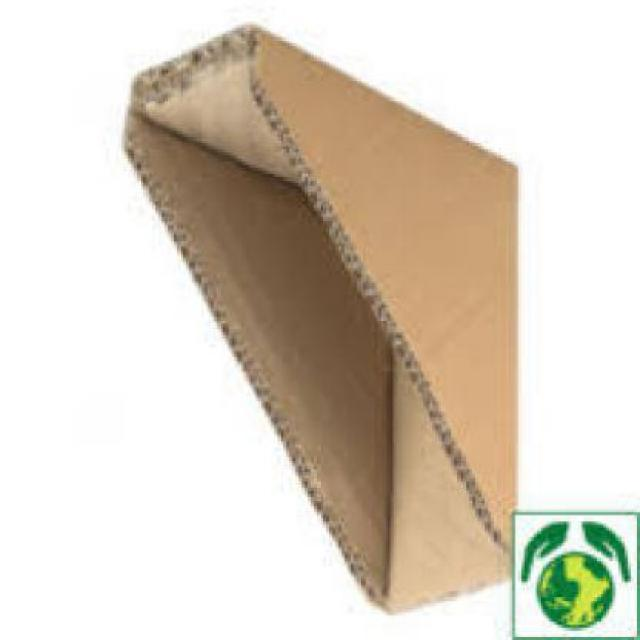box: (114, 13, 516, 618)
